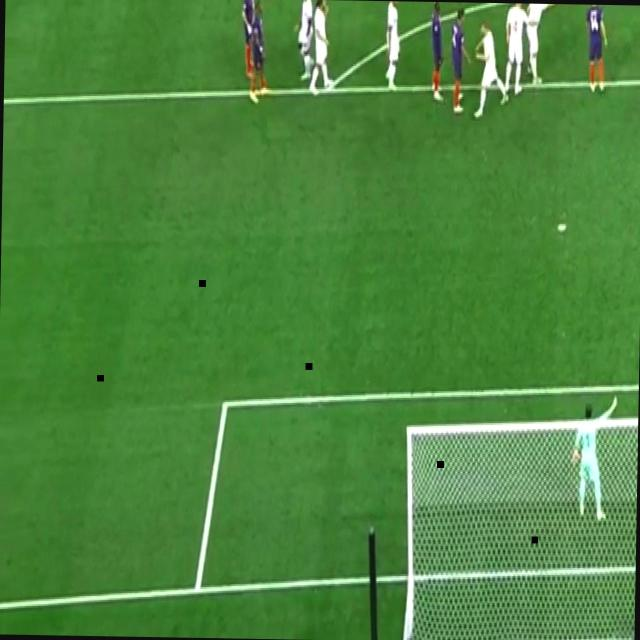player-white: (570, 397, 622, 521), (472, 17, 512, 123), (503, 3, 537, 104), (524, 4, 562, 90), (306, 0, 339, 96), (447, 3, 473, 119), (247, 0, 271, 108), (583, 4, 609, 96), (380, 1, 402, 94), (291, 0, 313, 89), (239, 0, 261, 82), (427, 2, 445, 102)
